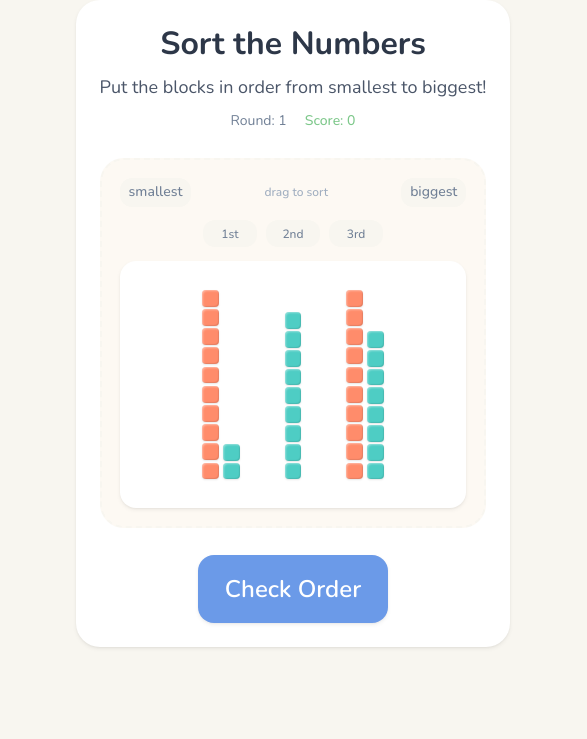
Test case: SortTheNumbersGame › Check Order button › shows feedback after checking order
The image size is (587, 739).
Click the button "Check Order": (293, 589) [198,555,388,623]
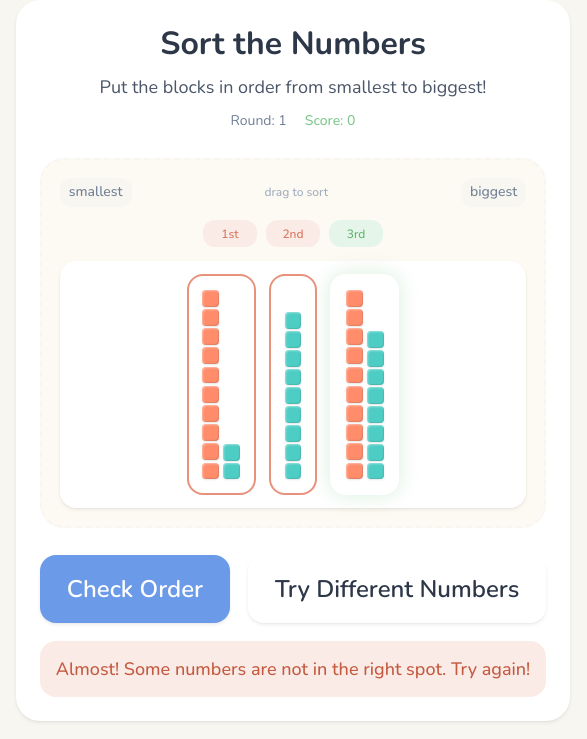
Result: the text "Almost! Some numbers are not in the right spot. Try again!" is shown at [53,655,533,684]
